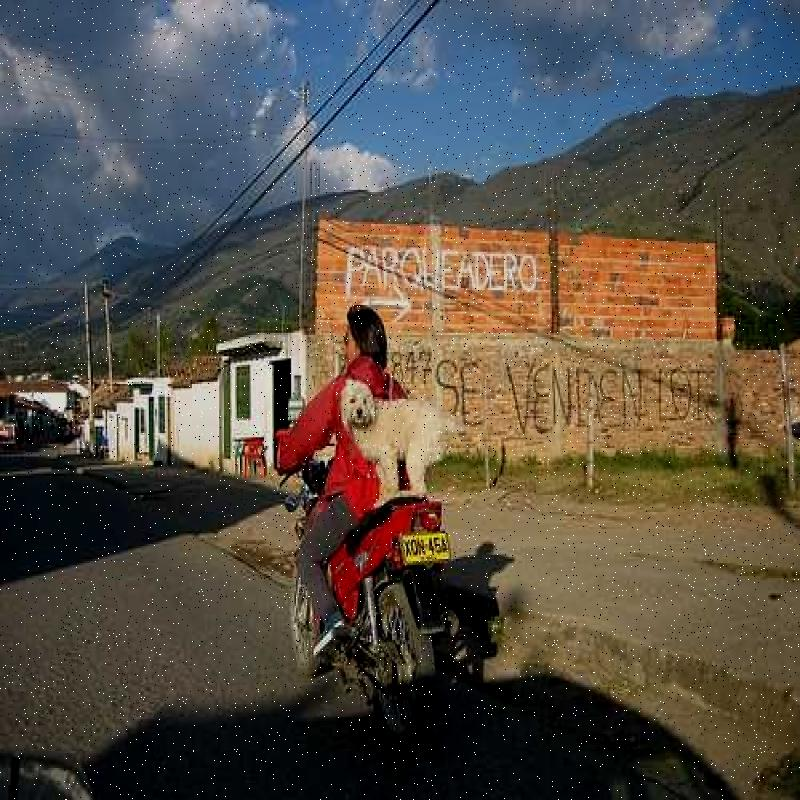bike: (358, 491, 464, 754)
